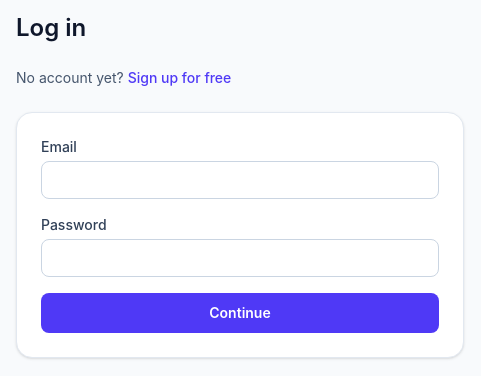
Test: LoginPage › renders Signing in placeholder while awaiting API
Type "alice@test.dev" into the field labelled "Email" at (240, 180), box [41,161,439,199]
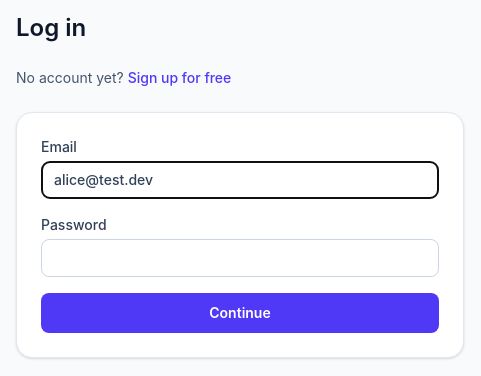
Type "pw" into the password field labelled "Password" at (240, 258), box [41,239,439,277]
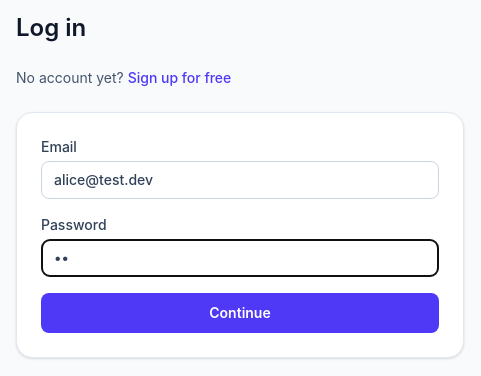
Click the button "Continue" at (240, 313), box [41,293,439,333]
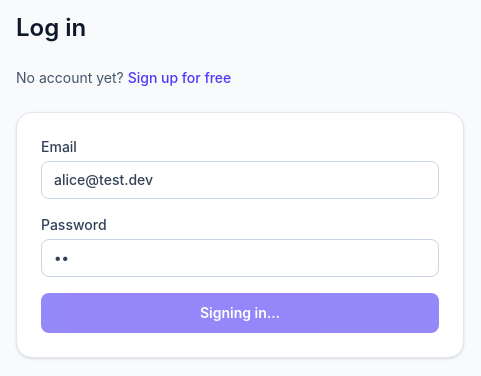
Expected: the button "Signing in…" is disabled, [41,293,439,333]
